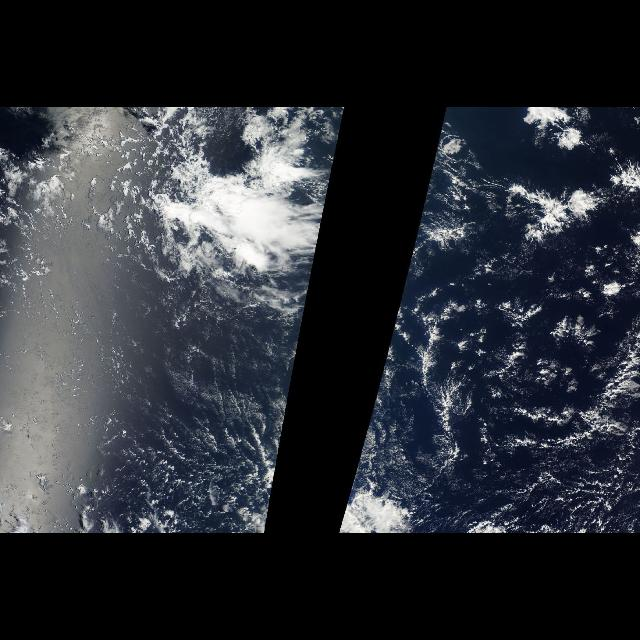Flower: (500, 108, 640, 248)
Gravel: (491, 339, 639, 533)
Sugar: (0, 277, 304, 495), (426, 266, 636, 532)
